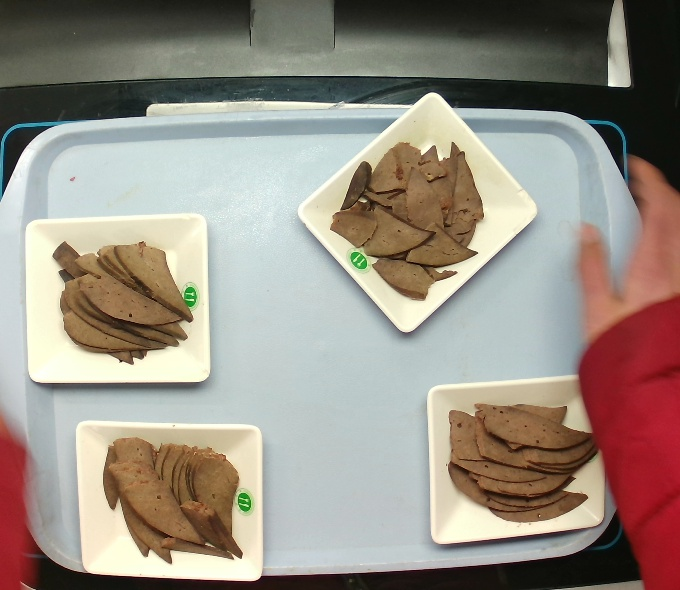wcq-ZhuGan: (324, 134, 491, 307), (440, 394, 606, 527), (94, 432, 247, 568), (46, 237, 198, 372)
